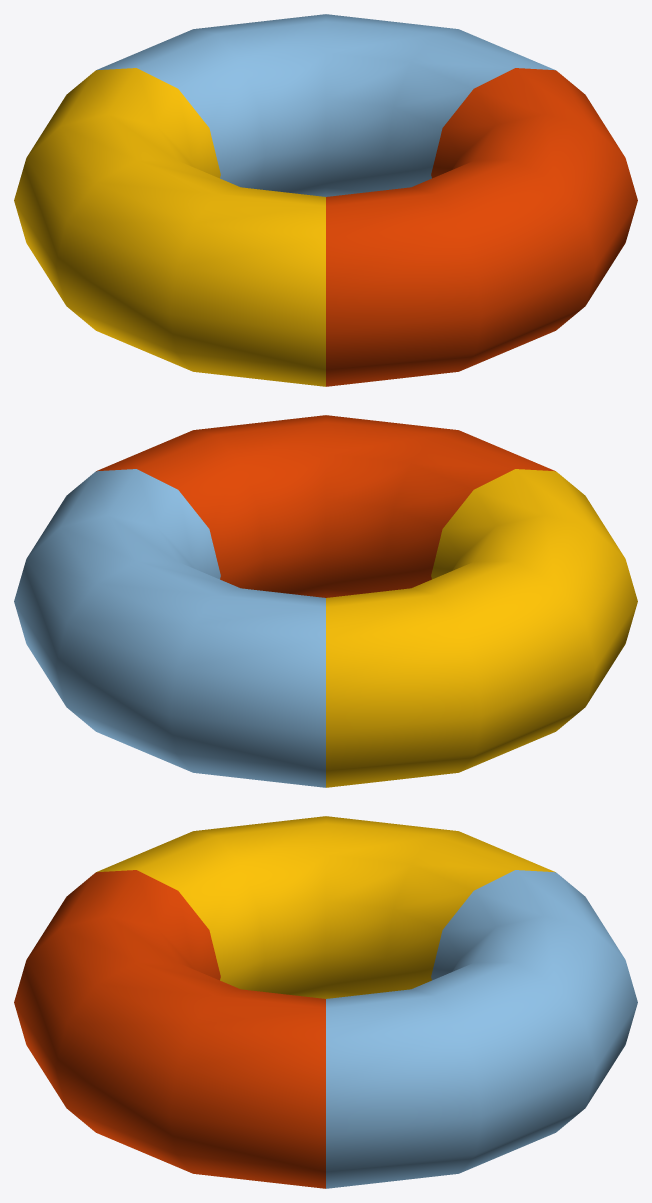
Rendered from Life Ring_1.fbx.
3 views of the same model, one above another, from view 1: azimuth 30°, elevation 25°; view 2: azimuth 150°, elevation 25°; view 3: azimuth 270°, elevation 25° (orthographic).
Parts seen in each view (by area): view 1: Life Ring_1; view 2: Life Ring_1; view 3: Life Ring_1.
Boxes of the visible parts, box(x1,y1,x2,y2) form: Life Ring_1: box(14, 14, 637, 386); Life Ring_1: box(14, 415, 637, 787); Life Ring_1: box(14, 816, 637, 1188).
Size of the model in its own units: 0.5807 by 0.1773 by 0.5807.
